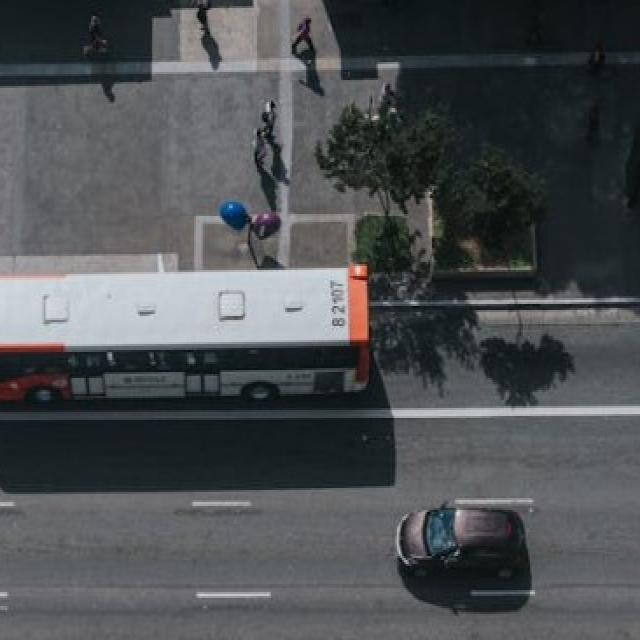bus: (0, 262, 369, 406)
car: (396, 503, 524, 579)
